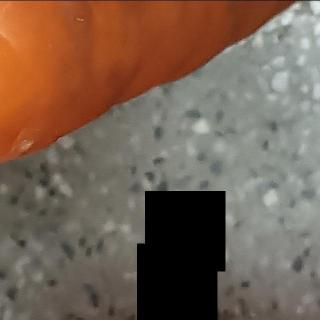carrot: (0, 0, 320, 174)
